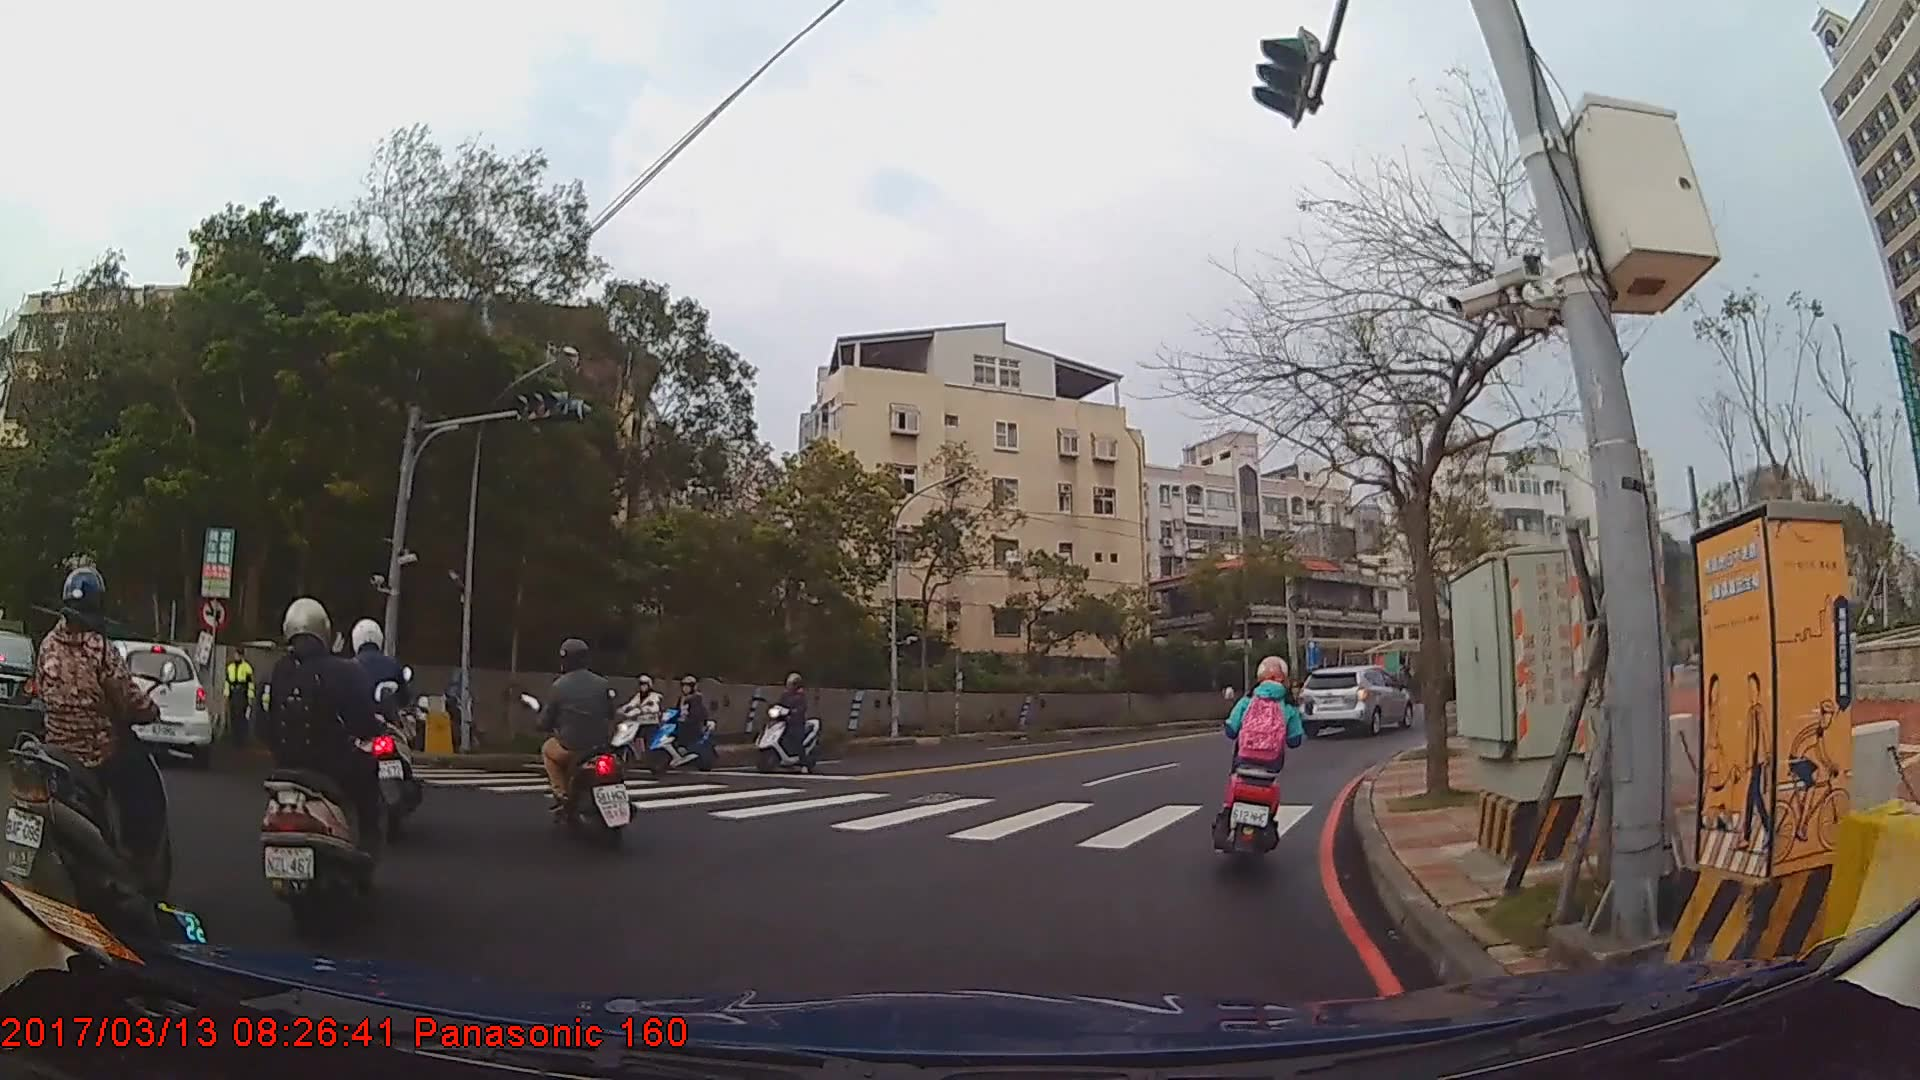pedestrian: (221, 644, 259, 753)
rider: (31, 566, 178, 948), (255, 598, 388, 921), (526, 638, 635, 855), (336, 620, 424, 846), (1220, 656, 1309, 860), (649, 675, 717, 774), (753, 673, 820, 772), (611, 675, 670, 766)
vehicle: (81, 641, 210, 763), (1295, 664, 1414, 739), (0, 628, 47, 751)
